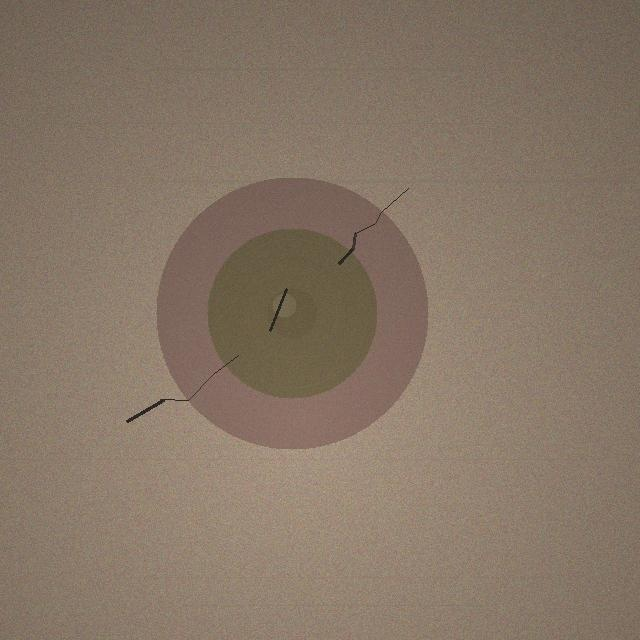crack: (156, 177, 428, 449)
